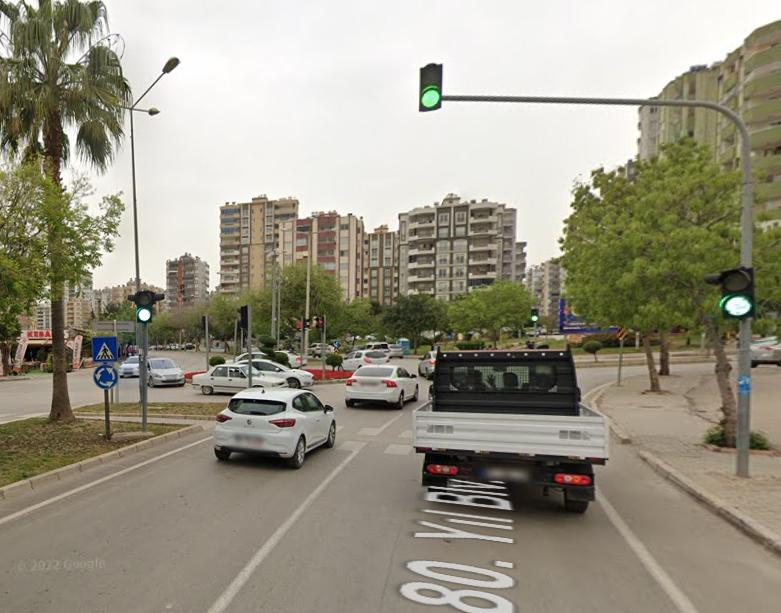crossroads: (95, 365, 118, 389)
greenlight: (724, 268, 757, 323), (421, 64, 445, 107), (136, 287, 153, 324)
